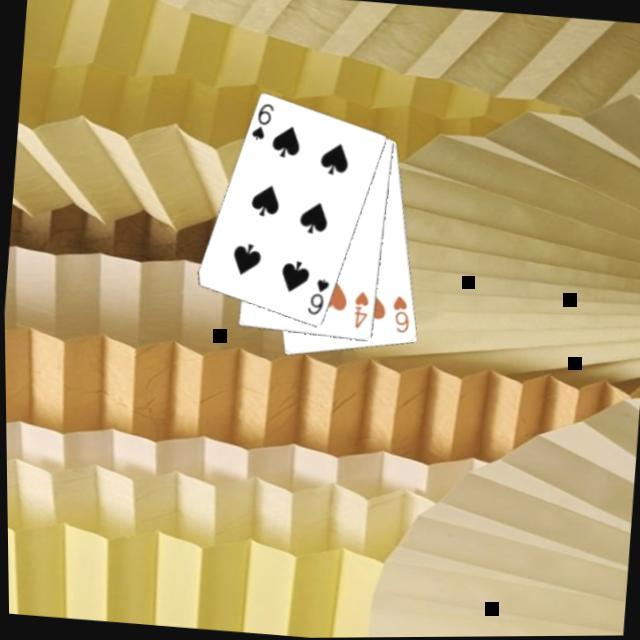4H: (346, 288, 371, 332)
6H: (384, 292, 413, 338)
6S: (245, 100, 276, 146), (300, 275, 332, 319)
